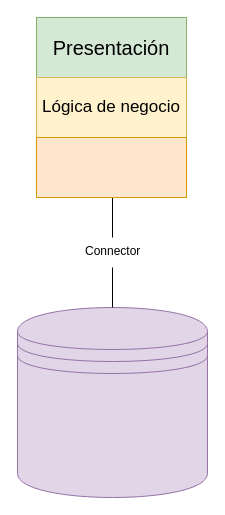
Image size: 225x515. Some labels were removed from this diagram. The centre of each missing label's shape, as x and y in pixels:
Acceso a datos: the point at 111,167
Base de datos: the point at 112,402
